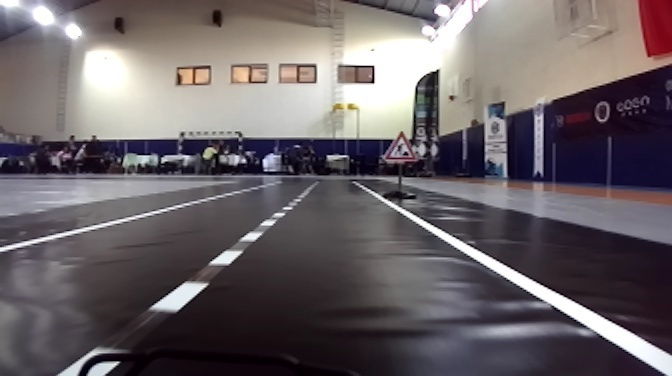yol_yapimi: (381, 125, 417, 162)
